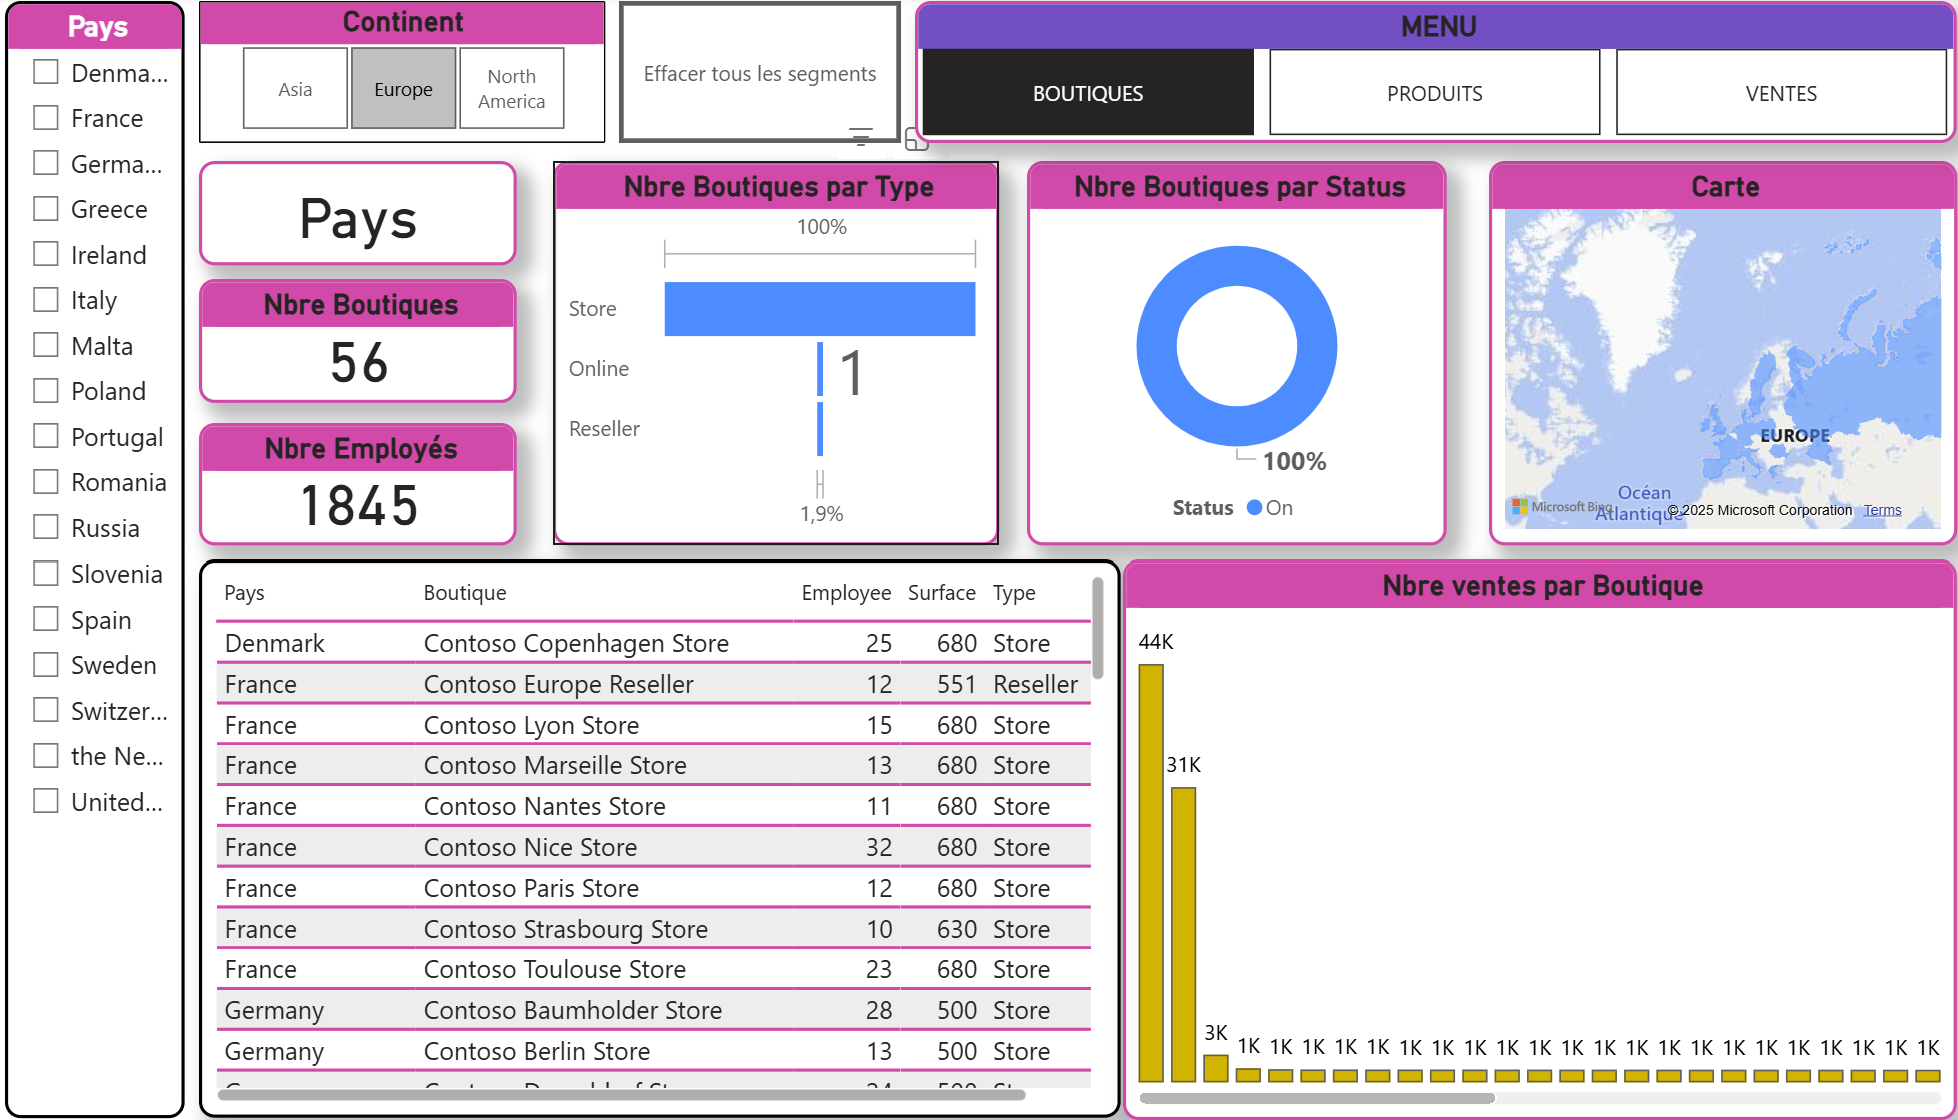

The page's visual inventory and layout, read from the dashboard file:
{"tool":"powerbi","page":{"name":"BOUTIQUES","canvas":[1280,720],"ordinal":0},"visuals":[{"type":"slicer","title":"Pays","fields":{"Values":["Geographie.Pays"]},"box":[8.9,3.8,114.7,711.4],"z":0},{"type":"slicer","title":"Continent","fields":{"Values":["Geographie.Continent"]},"box":[132.6,3.8,258.8,90.5],"z":1000},{"type":"card","fields":{"Values":["Geographie.PaysSelected"]},"box":[132.6,105.8,202.7,66.3],"z":2000},{"type":"card","title":"Nbre Boutiques","fields":{"Values":["Boutiques.Nbre Boutiques"]},"box":[132.6,181,202.7,79],"z":3000},{"type":"card","title":"Nbre Employés","fields":{"Values":["Sum(Boutiques.Employee)"]},"box":[132.6,272.8,202.7,77.8],"z":4000},{"type":"funnel","fields":{"Category":["Boutiques.Type"],"Y":["Boutiques.Nbre Boutiques"]},"box":[358.2,105.8,284.3,244.8],"z":5000},{"type":"donutChart","fields":{"Y":["Boutiques.Nbre Boutiques"],"Category":["Boutiques.Status"]},"box":[660.4,105.8,267.7,244.8],"z":6000},{"type":"filledMap","title":"Carte","fields":{"Category":["Geographie.Pays","Geographie.Continent"]},"box":[954.9,105.8,298.3,244.8],"z":7000},{"type":"tableEx","fields":{"Values":["Geographie.Pays","Boutiques.Boutique","Boutiques.Employee","Boutiques.Surface","Boutiques.Type","Boutiques.Status"]},"box":[132.6,359.5,587.7,355.7],"z":8000},{"type":"columnChart","fields":{"Category":["Boutiques.Boutique"],"Y":["Sales.Nbre ventes"]},"box":[721.6,359.5,531.6,357],"z":9000},{"type":"actionButton","box":[400.3,3.8,179.8,90.5],"z":10000},{"type":"pageNavigator","title":"MENU","box":[589,3.8,664.2,90.5],"z":10001}]}

Visuals, with their boxes in screenshot pixels (x1, y1, x2, y2), scaled from the page's 1280x720 canvas onto the 1958x1120 screenshot:
"Pays" slicer: (14, 6, 189, 1113)
"Continent" slicer: (203, 6, 599, 147)
card - Geographie.PaysSelected: (203, 165, 513, 268)
"Nbre Boutiques" card: (203, 282, 513, 404)
"Nbre Employés" card: (203, 424, 513, 545)
funnel - Boutiques.Type x Boutiques.Nbre Boutiques: (548, 165, 983, 545)
donutChart - Boutiques.Nbre Boutiques x Boutiques.Status: (1010, 165, 1420, 545)
"Carte" filledMap: (1461, 165, 1917, 545)
tableEx - Geographie.Pays x Boutiques.Boutique: (203, 559, 1102, 1113)
columnChart - Boutiques.Boutique x Sales.Nbre ventes: (1104, 559, 1917, 1115)
actionButton: (612, 6, 887, 147)
"MENU" pageNavigator: (901, 6, 1917, 147)
